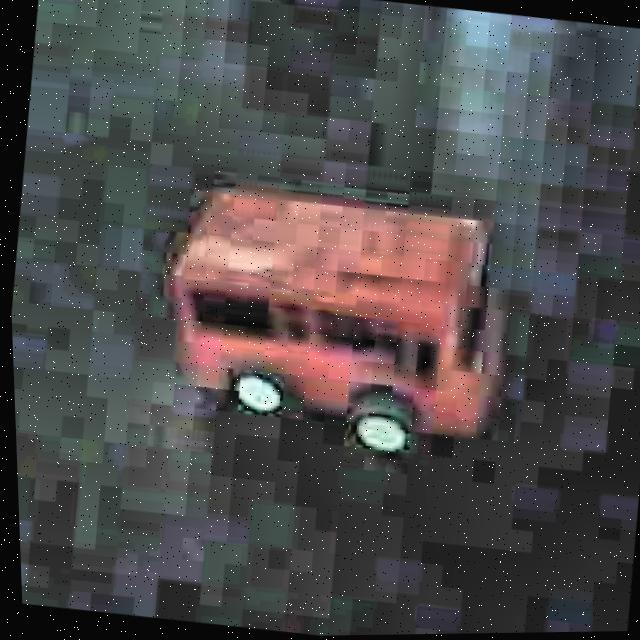bus: (131, 155, 536, 483)
